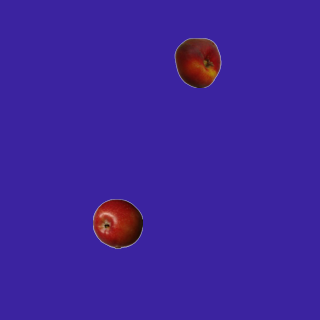Apple Braeburn: (92, 198, 142, 248)
Nectarine Flat: (172, 37, 222, 87)
